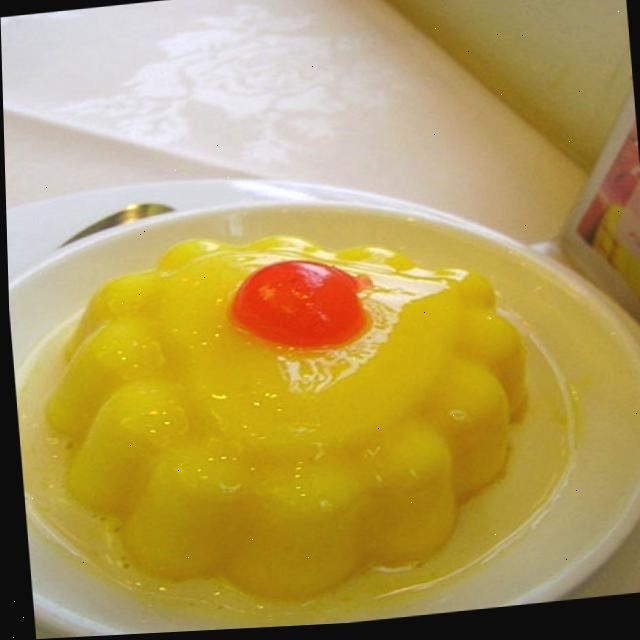蛋糕甜品: (4, 160, 640, 640)
